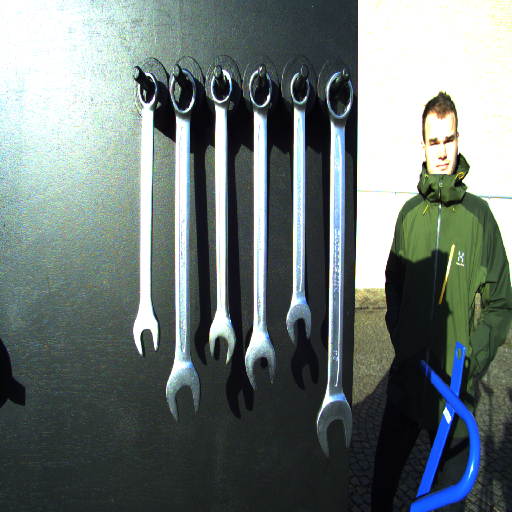bottom: (312, 400, 354, 458), (163, 368, 203, 422), (242, 337, 278, 392), (206, 317, 238, 365), (131, 314, 160, 356), (284, 302, 312, 344)
top: (324, 69, 355, 123), (167, 68, 198, 116), (246, 68, 274, 110), (208, 68, 234, 107), (132, 71, 161, 105), (288, 70, 313, 109)
